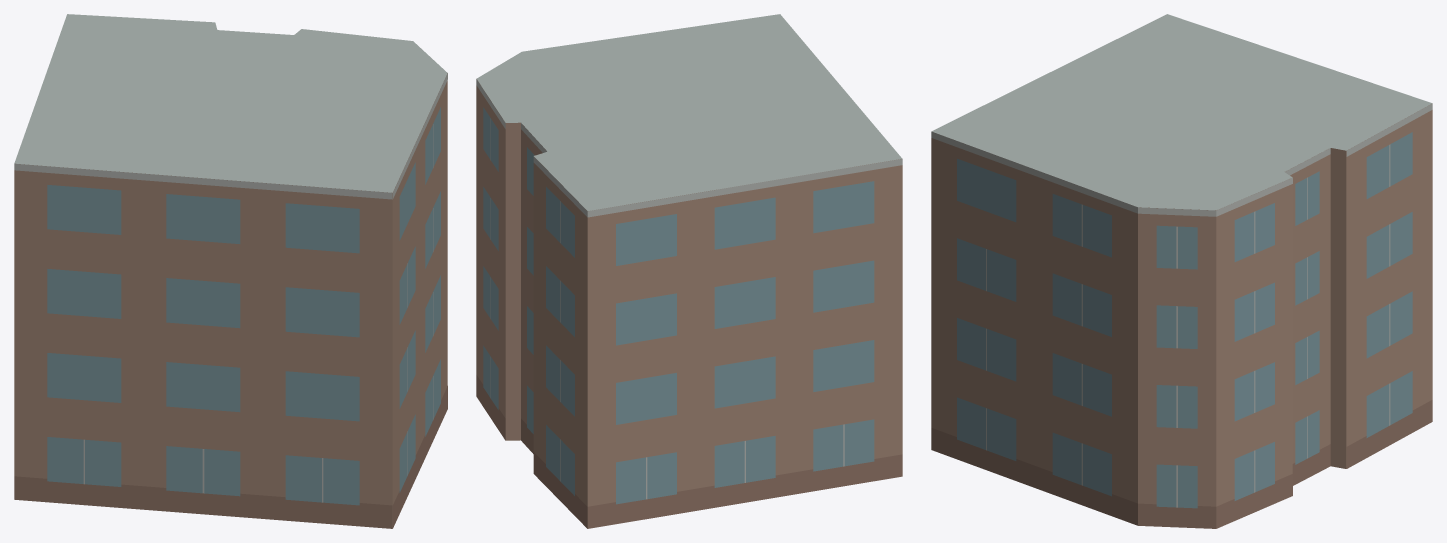
Rendered from survey-upis-32925314.glb.
3 views of the same model, side by side, from view 1: azimuth 30°, elevation 25°; view 2: azimuth 150°, elevation 25°; view 3: azimuth 270°, elevation 25° (orthographic). The views are drawn at different scales.
Visible parts, largest first — view 1: survey-upis-32925314.tmp; view 2: survey-upis-32925314.tmp; view 3: survey-upis-32925314.tmp.
Part boxes in pixels (x1,y1,x2,y2): survey-upis-32925314.tmp: (14, 14, 447, 528); survey-upis-32925314.tmp: (476, 14, 902, 528); survey-upis-32925314.tmp: (931, 14, 1432, 528).
Size of the model in its own units: 16.15 by 12.2 by 17.42.
